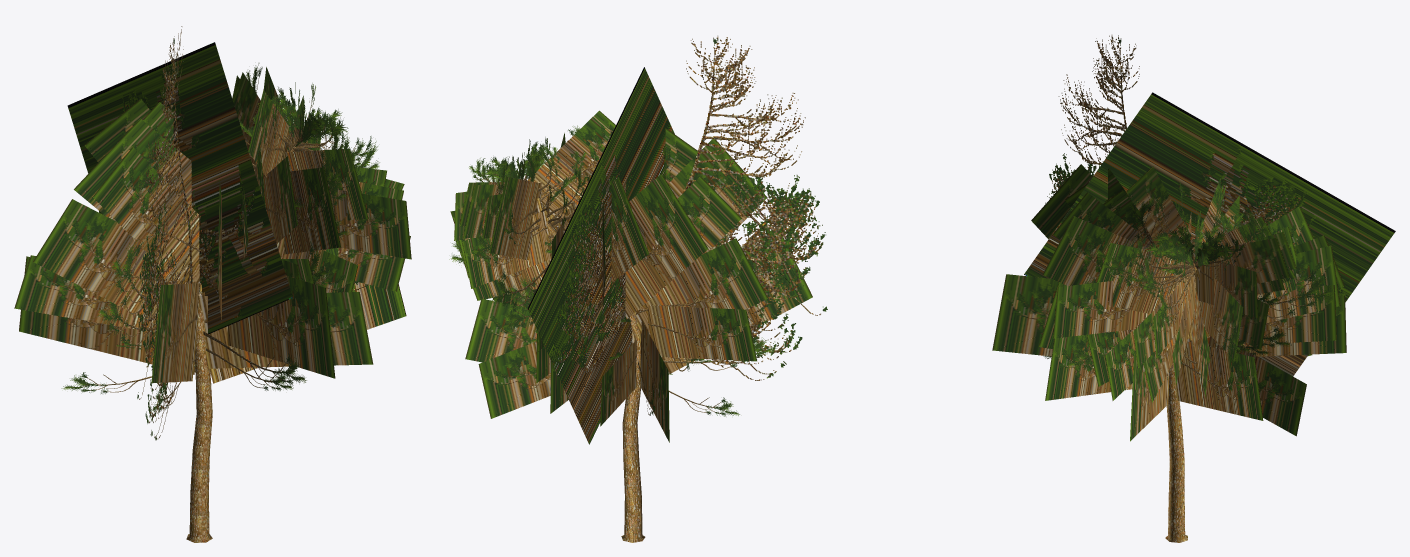
The model's file is Pine_aleppo_79_1_44.obj.
3 views of the same model, side by side, from view 1: azimuth 30°, elevation 25°; view 2: azimuth 150°, elevation 25°; view 3: azimuth 270°, elevation 25° (orthographic). The views are drawn at different scales.
Parts seen in each view (by area): view 1: Pine_aleppo_79_1_44_5, Pine_aleppo_79_1_44_60, Pine_aleppo_79_1_44_53, Pine_aleppo_79_1_44_51, Pine_aleppo_79_1_44_3, Pine_aleppo_79_1_44_47, Pine_aleppo_79_1_44_15, Pine_aleppo_79_1_44_24, Pine_aleppo_79_1_44_55, Pine_aleppo_79_1_44_67, Pine_aleppo_79_1_44_57, Pine_aleppo_79_1_44_69 (+11 smaller); view 2: Pine_aleppo_79_1_44_5, Pine_aleppo_79_1_44_3, Pine_aleppo_79_1_44_49, Pine_aleppo_79_1_44_67, Pine_aleppo_79_1_44_53, Pine_aleppo_79_1_44_60, Pine_aleppo_79_1_44_24, Pine_aleppo_79_1_44_15, Pine_aleppo_79_1_44_64, Pine_aleppo_79_1_44_69, Pine_aleppo_79_1_44_62, Pine_aleppo_79_1_44_45 (+10 smaller); view 3: Pine_aleppo_79_1_44_5, Pine_aleppo_79_1_44_51, Pine_aleppo_79_1_44_15, Pine_aleppo_79_1_44_24, Pine_aleppo_79_1_44_62, Pine_aleppo_79_1_44_22, Pine_aleppo_79_1_44_47, Pine_aleppo_79_1_44_3, Pine_aleppo_79_1_44_64, Pine_aleppo_79_1_44_2, Pine_aleppo_79_1_44_69, Pine_aleppo_79_1_44_34 (+20 smaller).
Boxes of the visible parts, x1,y1,x2,y2 form: Pine_aleppo_79_1_44_5: [67, 42, 292, 333]; Pine_aleppo_79_1_44_60: [84, 99, 199, 372]; Pine_aleppo_79_1_44_53: [33, 199, 199, 324]; Pine_aleppo_79_1_44_51: [198, 248, 406, 383]; Pine_aleppo_79_1_44_3: [137, 26, 200, 440]; Pine_aleppo_79_1_44_47: [227, 275, 335, 378]; Pine_aleppo_79_1_44_15: [248, 90, 340, 254]; Pine_aleppo_79_1_44_24: [232, 72, 411, 259]; Pine_aleppo_79_1_44_55: [151, 283, 200, 383]; Pine_aleppo_79_1_44_67: [14, 255, 201, 332]; Pine_aleppo_79_1_44_57: [19, 145, 265, 374]; Pine_aleppo_79_1_44_69: [186, 139, 299, 542]; Pine_aleppo_79_1_44_5: [527, 67, 674, 444]; Pine_aleppo_79_1_44_3: [567, 35, 827, 380]; Pine_aleppo_79_1_44_49: [625, 174, 708, 318]; Pine_aleppo_79_1_44_67: [639, 305, 756, 361]; Pine_aleppo_79_1_44_53: [635, 238, 768, 333]; Pine_aleppo_79_1_44_60: [550, 176, 741, 426]; Pine_aleppo_79_1_44_24: [456, 176, 559, 300]; Pine_aleppo_79_1_44_15: [527, 110, 615, 228]; Pine_aleppo_79_1_44_64: [478, 332, 634, 418]; Pine_aleppo_79_1_44_69: [539, 212, 645, 542]; Pine_aleppo_79_1_44_62: [465, 298, 536, 362]; Pine_aleppo_79_1_44_45: [668, 139, 767, 250]; Pine_aleppo_79_1_44_5: [1024, 92, 1395, 376]; Pine_aleppo_79_1_44_51: [1045, 235, 1344, 441]; Pine_aleppo_79_1_44_15: [1042, 166, 1195, 285]; Pine_aleppo_79_1_44_24: [1053, 216, 1295, 397]; Pine_aleppo_79_1_44_62: [1175, 341, 1263, 420]; Pine_aleppo_79_1_44_22: [1096, 243, 1185, 368]; Pine_aleppo_79_1_44_47: [992, 274, 1058, 356]; Pine_aleppo_79_1_44_3: [1045, 35, 1215, 242]; Pine_aleppo_79_1_44_64: [1038, 282, 1306, 436]; Pine_aleppo_79_1_44_2: [1189, 245, 1340, 340]; Pine_aleppo_79_1_44_69: [1165, 263, 1196, 542]; Pine_aleppo_79_1_44_34: [1095, 185, 1278, 352].
Size of the model in its own units: 9.85 by 12.63 by 9.84.
Materials: 6 (6 with a texture image).
